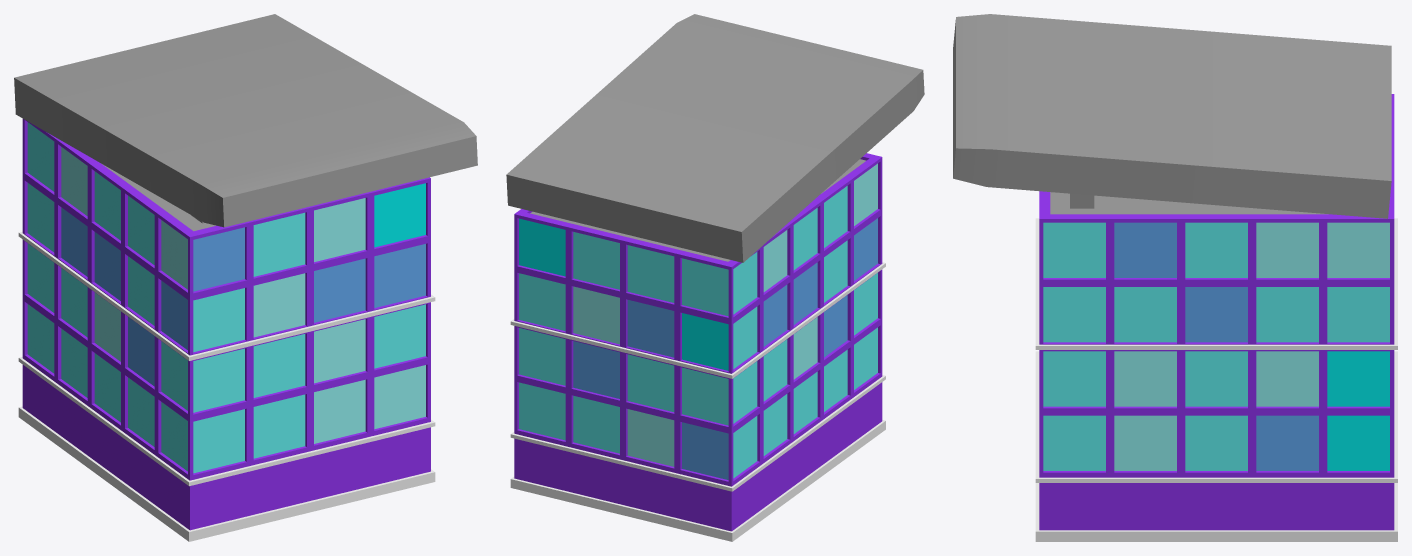
The model's file is SM_House_23_03.FBX.
3 views of the same model, side by side, from view 1: azimuth 30°, elevation 25°; view 2: azimuth 150°, elevation 25°; view 3: azimuth 270°, elevation 25° (orthographic). The views are drawn at different scales.
Visible parts, largest first — view 1: SM_House_23_03; view 2: SM_House_23_03; view 3: SM_House_23_03.
Part boxes in pixels (x1=…): SM_House_23_03: x1=14, y1=14, x2=477, y2=541; SM_House_23_03: x1=506, y1=14, x2=924, y2=541; SM_House_23_03: x1=953, y1=14, x2=1397, y2=541.
Bounding box in the file's own units: 5.41 × 7.4 × 7.52.
1 material, 1 textured.
